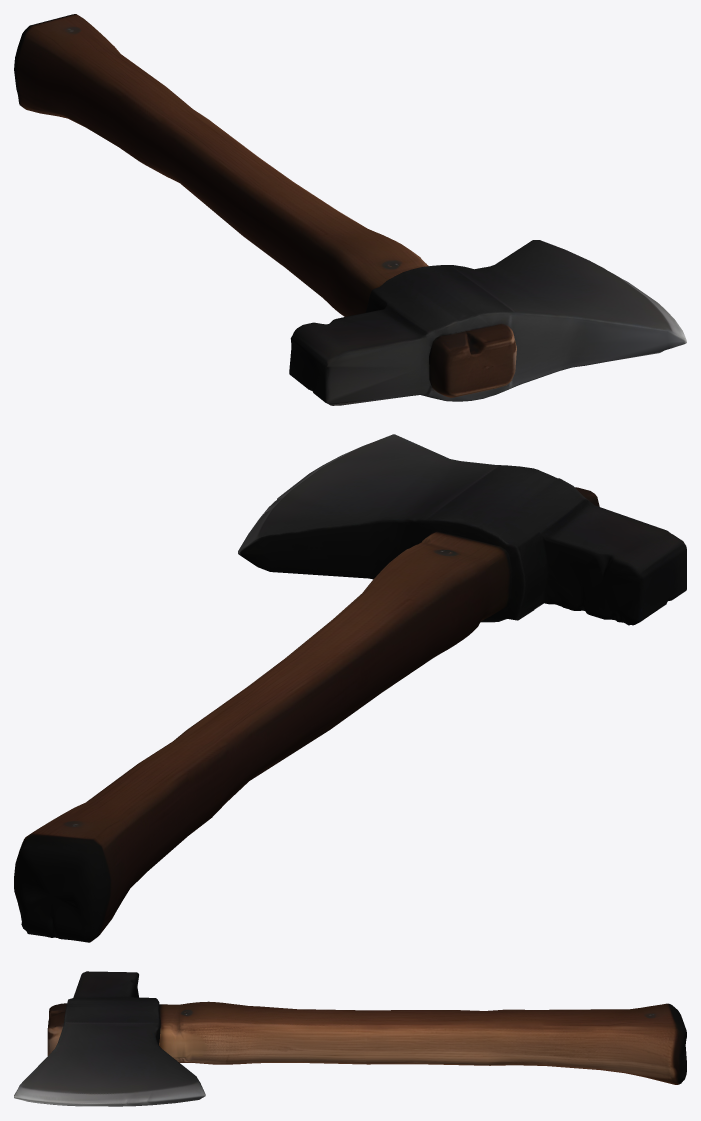
File: axe.glb
3 renders of one model, top to bottom at view 1: azimuth 30°, elevation 25°; view 2: azimuth 150°, elevation 25°; view 3: azimuth 270°, elevation 25°, orthographic. The views are drawn at different scales.
Parts seen in each view (by area): view 1: tripo_node_d905951d-ecd6-4c54-befe-45c13a2570f5; view 2: tripo_node_d905951d-ecd6-4c54-befe-45c13a2570f5; view 3: tripo_node_d905951d-ecd6-4c54-befe-45c13a2570f5.
Part boxes in pixels (x1,y1,x2,y2): tripo_node_d905951d-ecd6-4c54-befe-45c13a2570f5: (14, 14, 686, 405); tripo_node_d905951d-ecd6-4c54-befe-45c13a2570f5: (14, 434, 686, 942); tripo_node_d905951d-ecd6-4c54-befe-45c13a2570f5: (14, 971, 686, 1106).
Bounding box in the file's own units: 0.1636 × 0.0471 × 0.4.
Materials: 1 (1 with a texture image).
